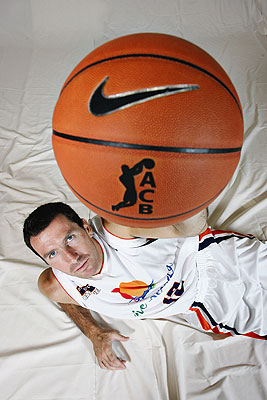basketball: (51, 32, 244, 228)
